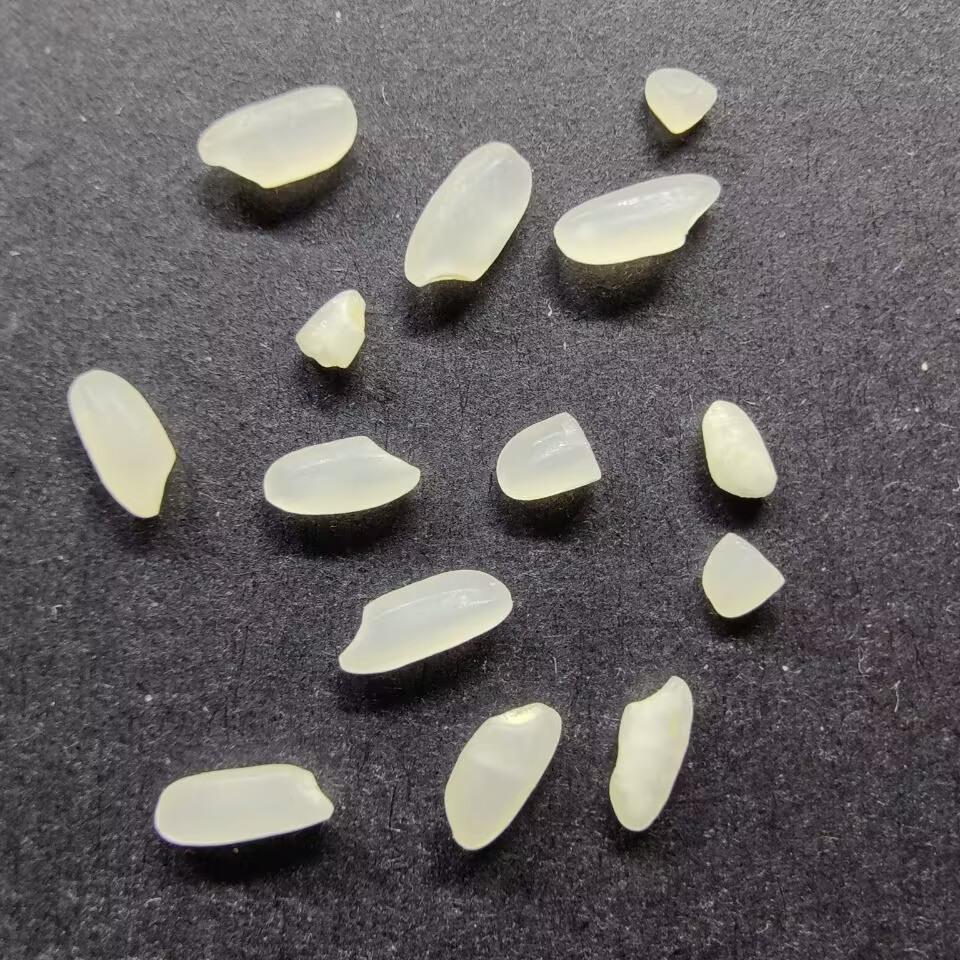broken: (494, 410, 601, 502), (699, 397, 779, 500), (700, 531, 787, 619), (293, 288, 369, 369), (642, 66, 719, 135)
rice: (403, 140, 534, 291), (335, 568, 515, 677), (443, 701, 564, 851), (195, 84, 358, 190), (67, 367, 177, 519), (551, 172, 726, 266), (152, 763, 335, 848), (609, 674, 696, 831), (260, 433, 421, 517)
